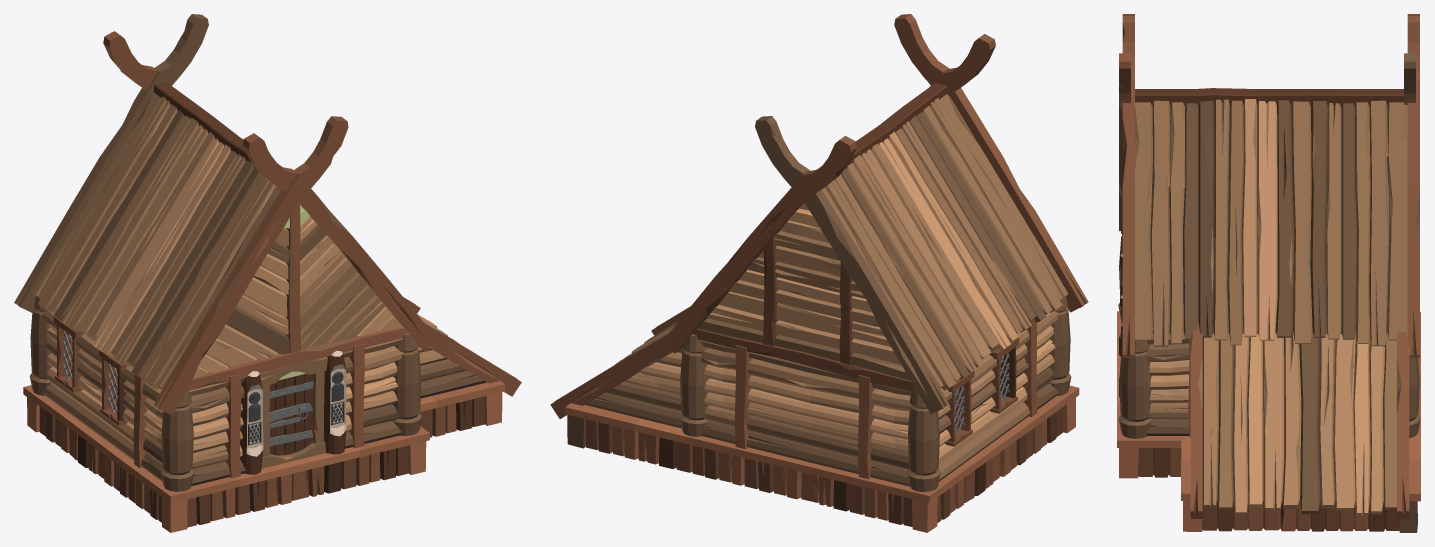
The picture shows the model from 3 angles, left to right: view 1: azimuth 30°, elevation 25°; view 2: azimuth 150°, elevation 25°; view 3: azimuth 270°, elevation 25°; orthographic projection. The views are drawn at different scales.
Visible parts, largest first — view 1: building_03.001; view 2: building_03.001; view 3: building_03.001.
Boxes of the visible parts, left/top/right/bottom form: building_03.001: left=14, top=14, right=521, bottom=532; building_03.001: left=550, top=14, right=1088, bottom=532; building_03.001: left=1117, top=14, right=1420, bottom=532.
Bounding box in the file's own units: 11.94 × 10.7 × 7.74.
Materials: 1 (1 with a texture image).
